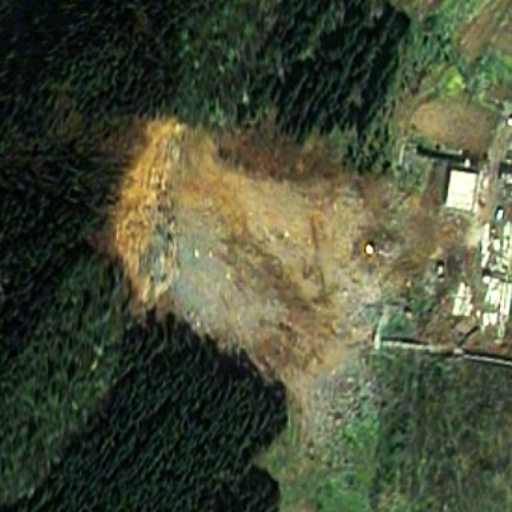landslide: (99, 113, 368, 395)
